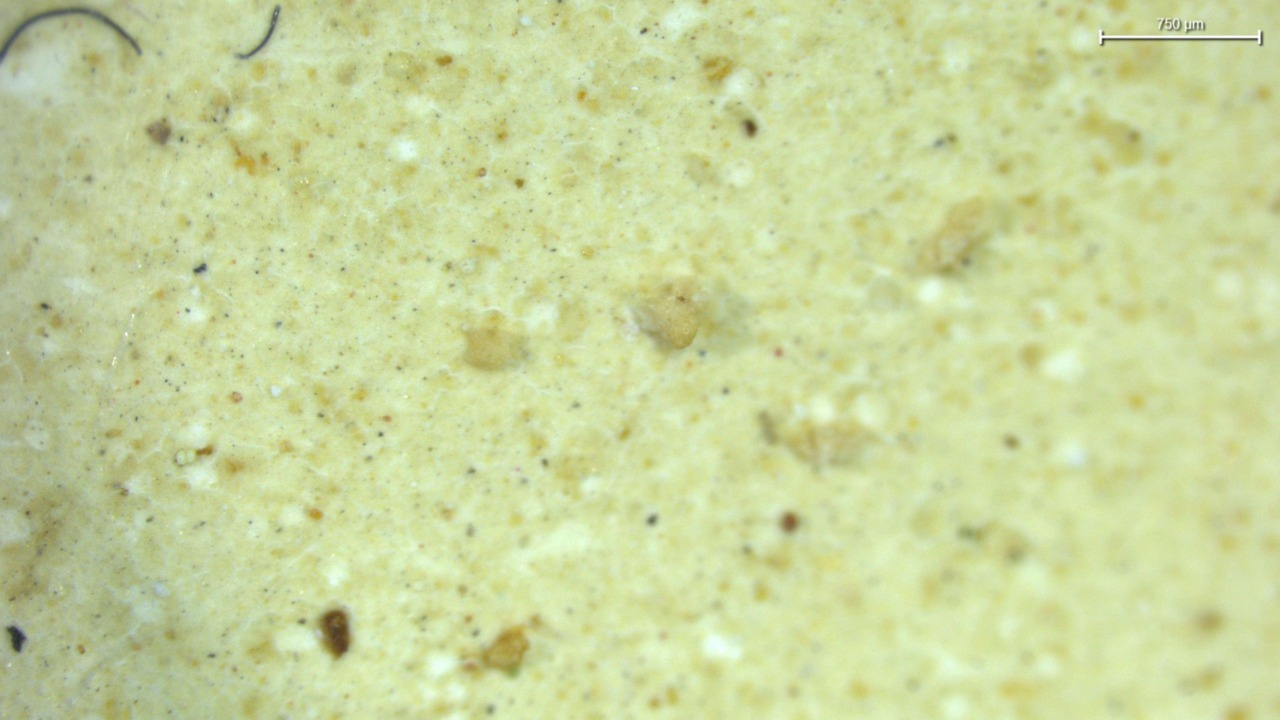microplastic_fragment: (630, 296, 705, 355)
